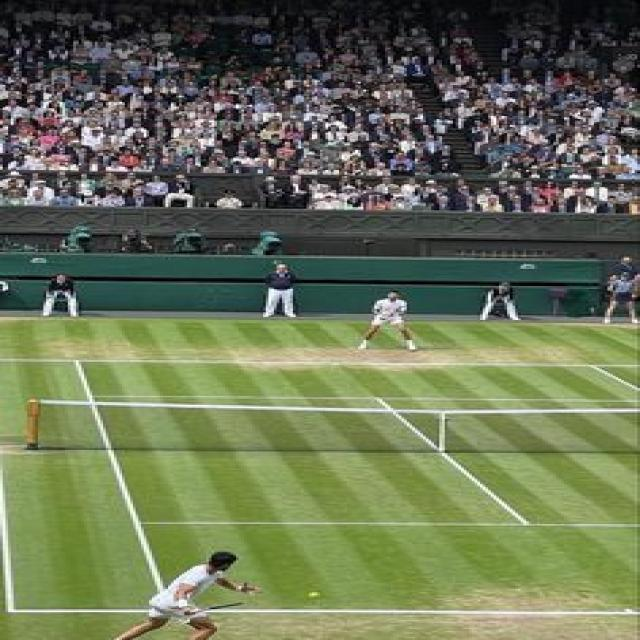tennis: (302, 591, 327, 600)
